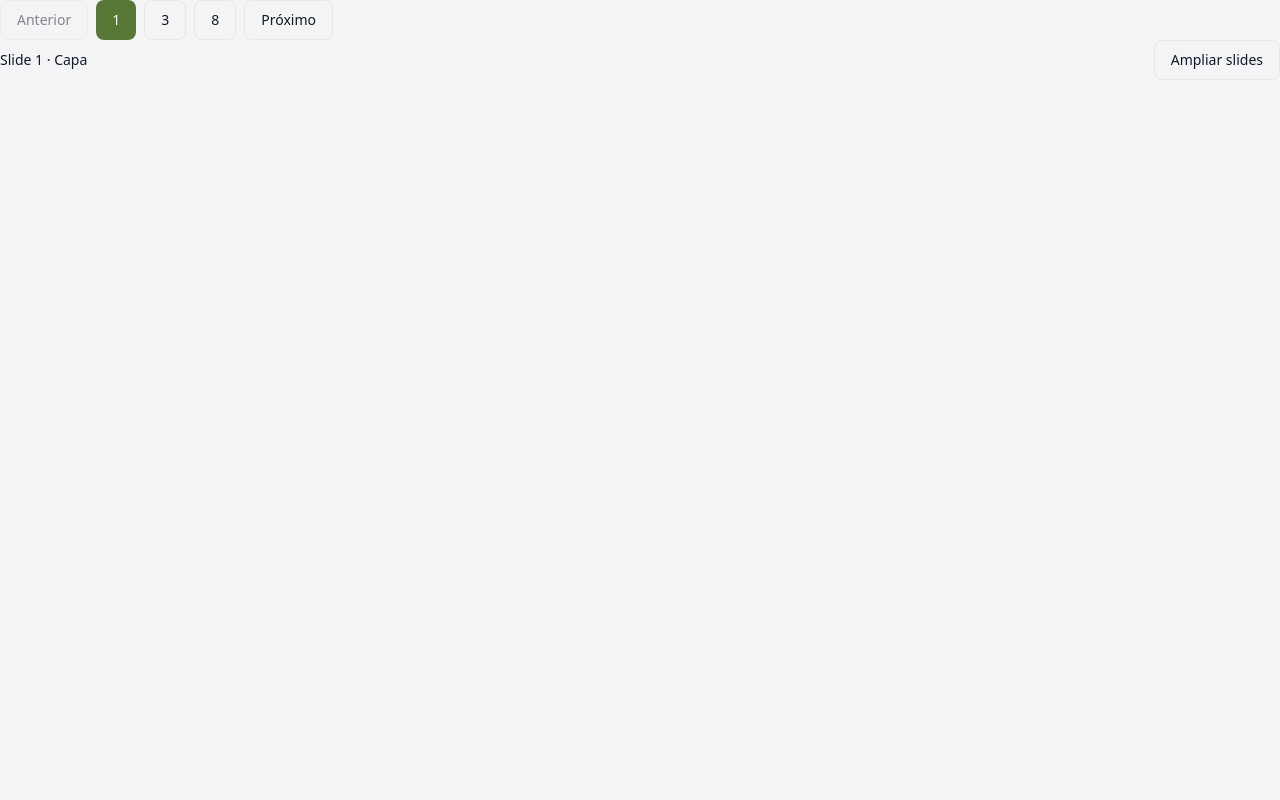
Test: Contrato compartilhado dos relatórios institucionais › navega pela sequência disponível, mantém número ativo e continua na mesma posição ao ampliar
The image size is (1280, 800).
Expected: the button "Anterior" is disabled, [0,0,88,40]
Click the button "Próximo" at coordinates (289, 20), box [244,0,333,40]
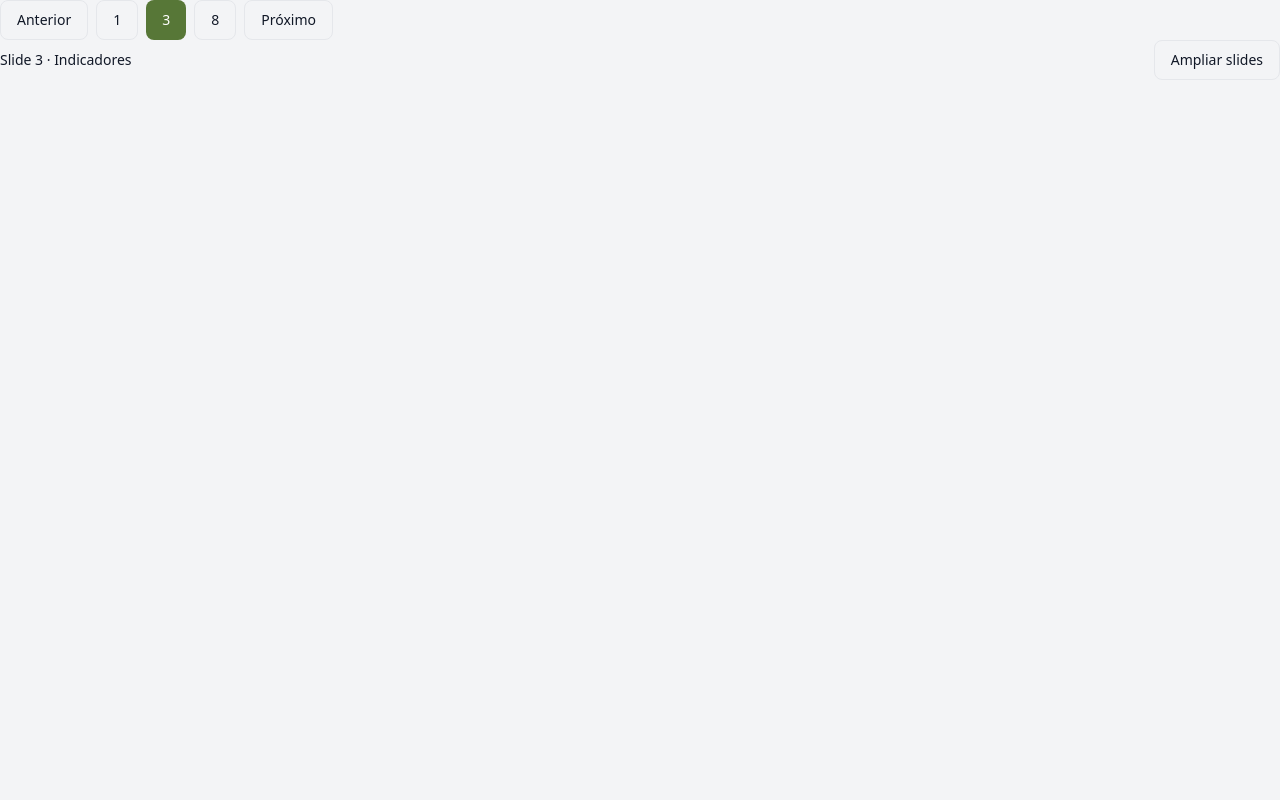
Now the button "3" is marked as current, box [146,0,186,40]
Click the button "Ampliar slides" at coordinates (1217, 60), box [1154,40,1279,80]
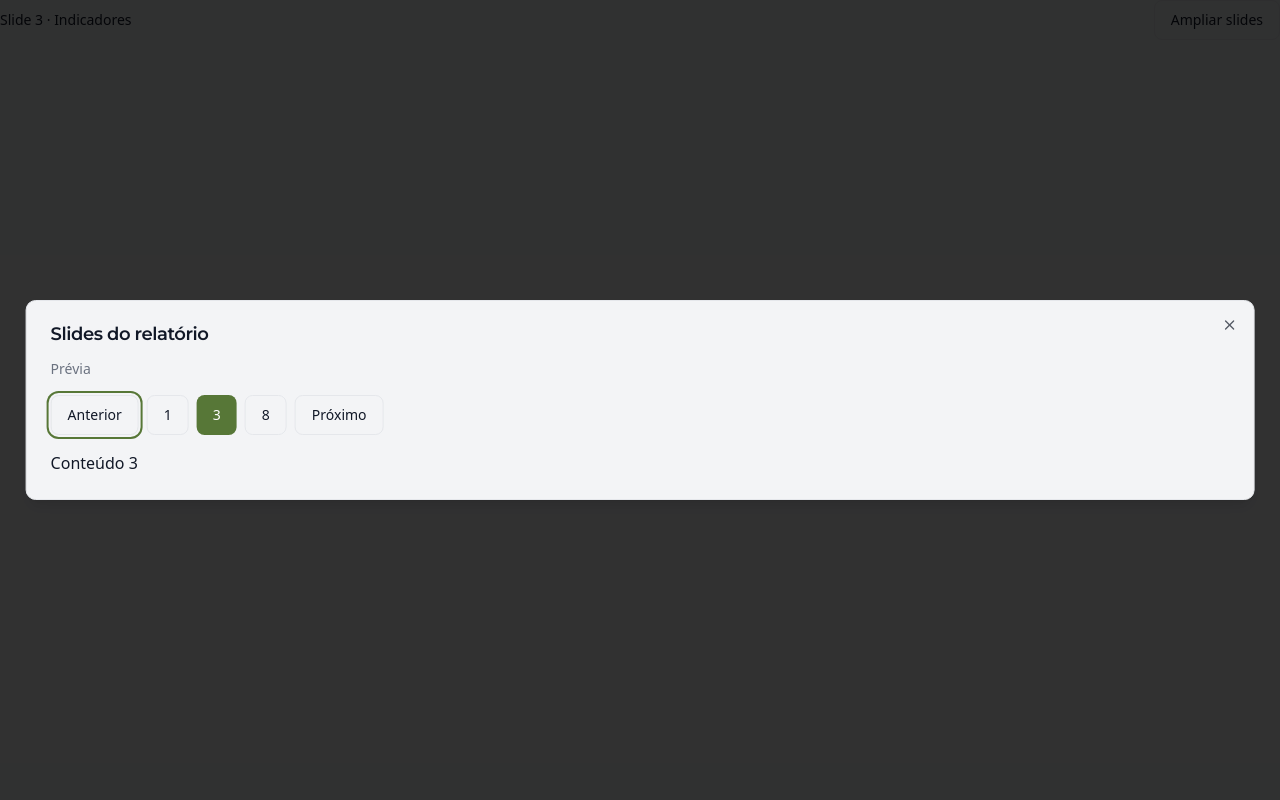
Now the text "Conteúdo 3" is shown, box [51,452,138,474]
Click the button "Próximo" at coordinates (339, 415), box [295,395,384,435]
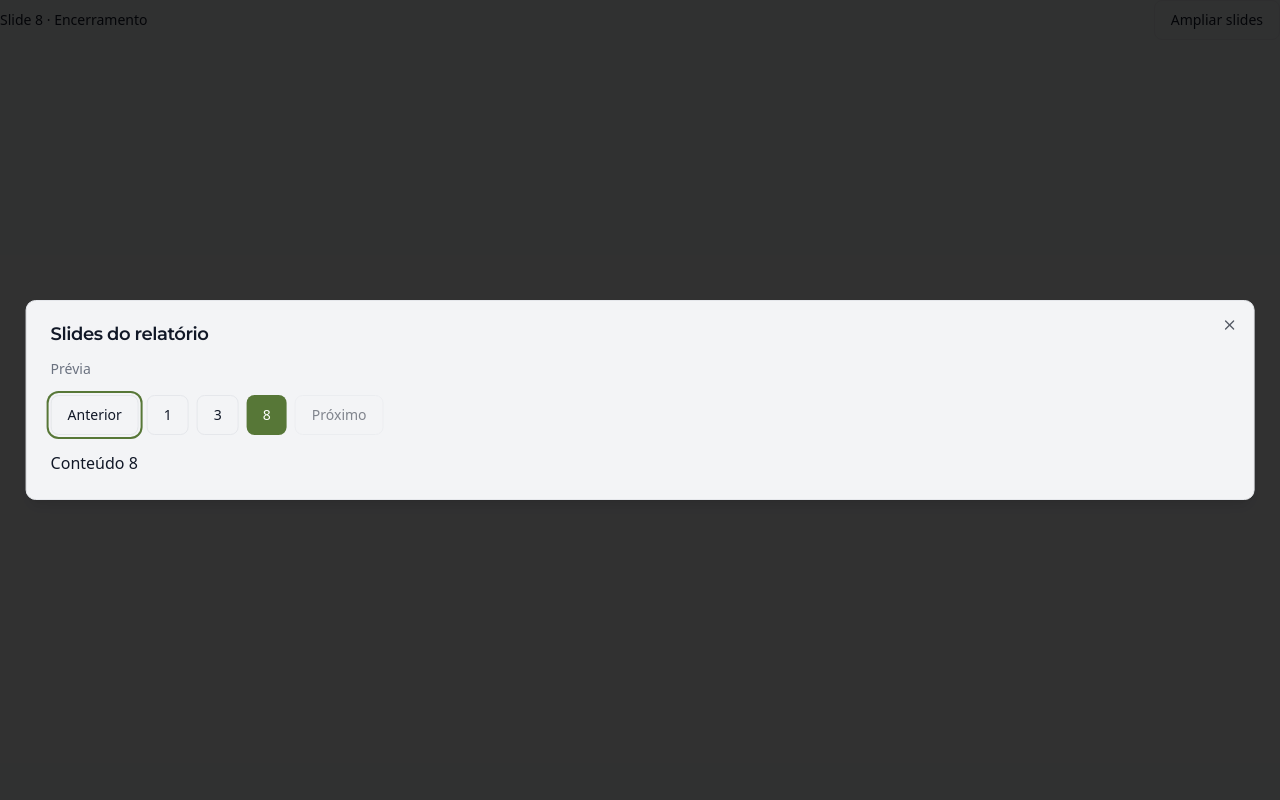
Now the button "Próximo" is disabled, box [295,395,384,435]
Now the text "Conteúdo 8" is shown, box [51,452,138,474]
